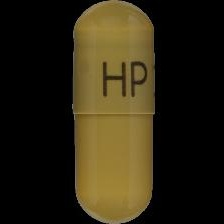23155-120: (0, 0, 224, 224)
